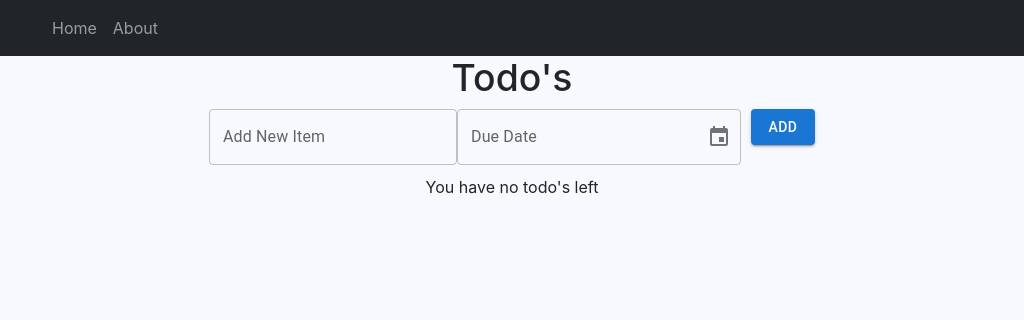
test delete task
The image size is (1024, 320).
Type "Test" into the field labelled "Add New Item". click: (333, 137)
box: x1=209 y1=109 x2=457 y2=165
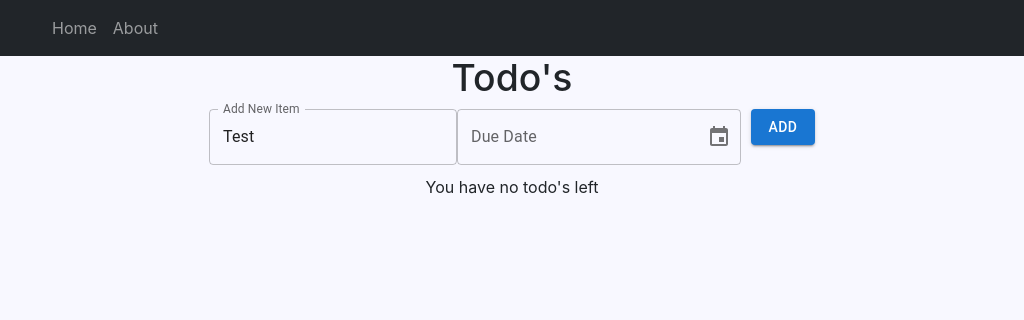
Type "06/24/2002" into the field labelled "Due Date". click: (574, 137)
box: x1=457 y1=109 x2=691 y2=165
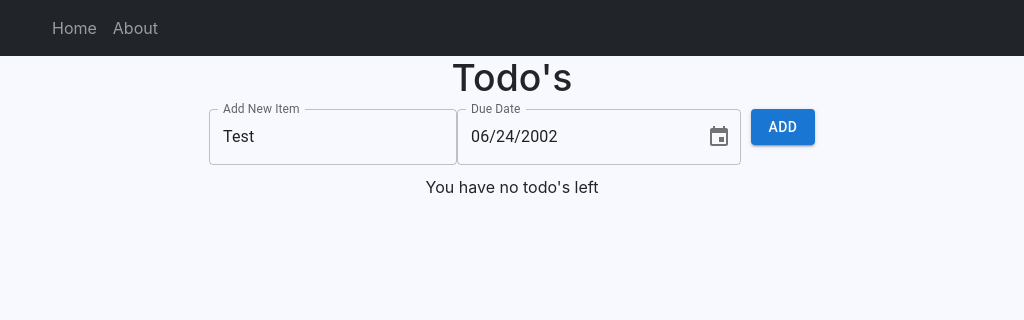
Click the button "Add". click: (783, 127)
box: x1=751 y1=109 x2=815 y2=145
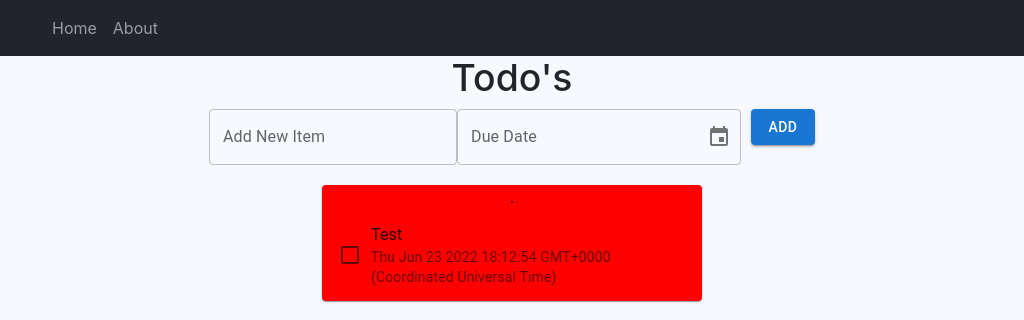
Expected: the checkbox is shown, x1=338 y1=243 x2=362 y2=267
